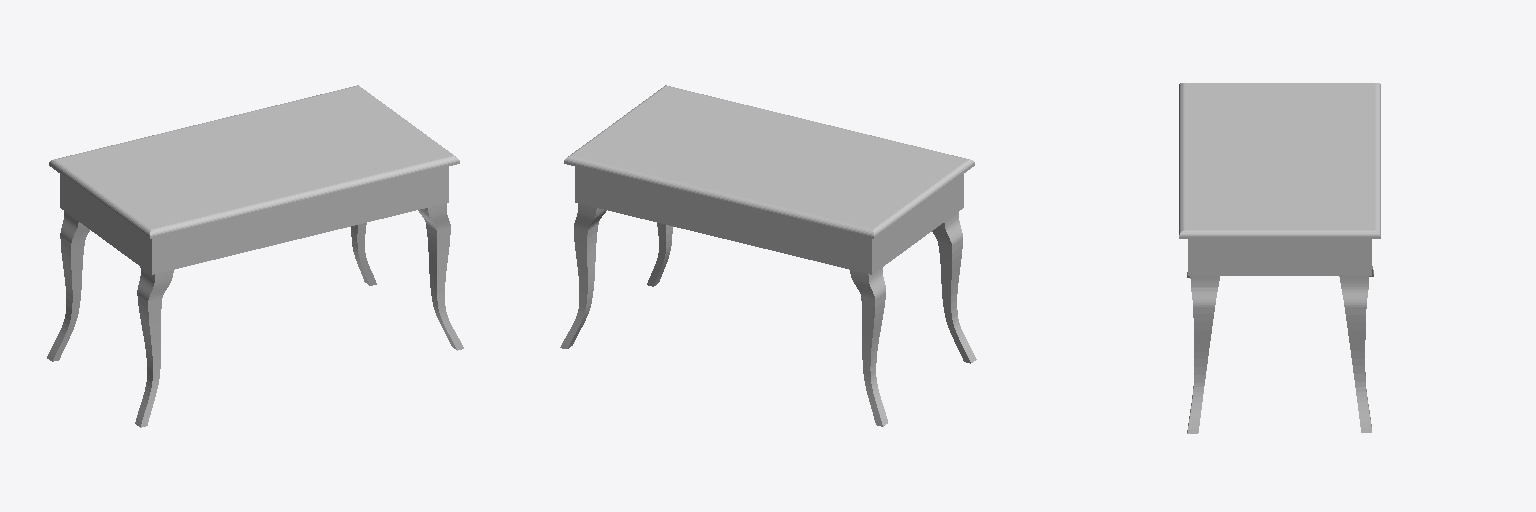
The model's file is mesinha.obj.
3 renders of one model, left to right at view 1: azimuth 30°, elevation 25°; view 2: azimuth 150°, elevation 25°; view 3: azimuth 270°, elevation 25°, orthographic.
Parts seen in each view (by area): view 1: instance_1_ID96.001, Cubo, instance_2_ID113, instance_2.002_ID129, instance_2.001_ID121, instance_2.003_ID137; view 2: instance_1_ID96.001, instance_2.002_ID129, instance_2_ID113, instance_2.003_ID137, instance_2.001_ID121; view 3: instance_1_ID96.001, instance_2.001_ID121, instance_2.003_ID137.
Part boxes in pixels (x1,y1,x2,y2): instance_1_ID96.001: (49,85,459,274); Cubo: (184,178,416,258); instance_2_ID113: (135,267,173,427); instance_2.002_ID129: (47,211,89,361); instance_2.001_ID121: (418,203,463,350); instance_2.003_ID137: (351,223,376,285); instance_1_ID96.001: (564,85,974,274); instance_2.002_ID129: (850,267,887,426); instance_2_ID113: (932,212,976,363); instance_2.003_ID137: (560,203,606,348); instance_2.001_ID121: (647,223,672,286); instance_1_ID96.001: (1179,83,1380,275); instance_2.001_ID121: (1187,276,1219,433); instance_2.003_ID137: (1339,276,1371,432).
Bounding box in the file's own units: 4.05 × 2.35 × 2.18.